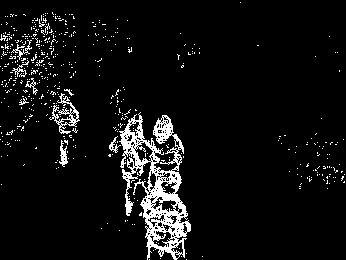person: (142, 178, 203, 260), (115, 115, 144, 213), (52, 88, 84, 168), (155, 113, 189, 182)
